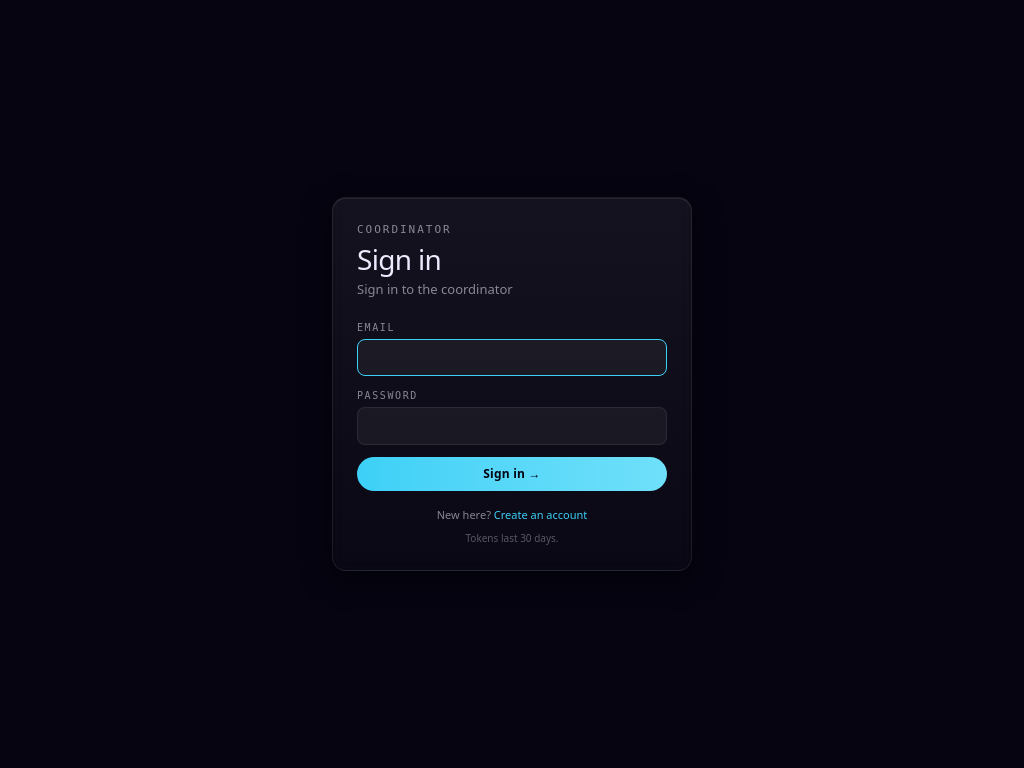
Test: a successful login lands the user on the jobs page
This screenshot has width=1024, height=768.
Check: the text "Sign in to the coordinator" is shown, box 357,280 -> 513,298
Type "admin@example.com" into the field labelled "Email" at coordinates (512, 358), box 357,339 -> 667,376
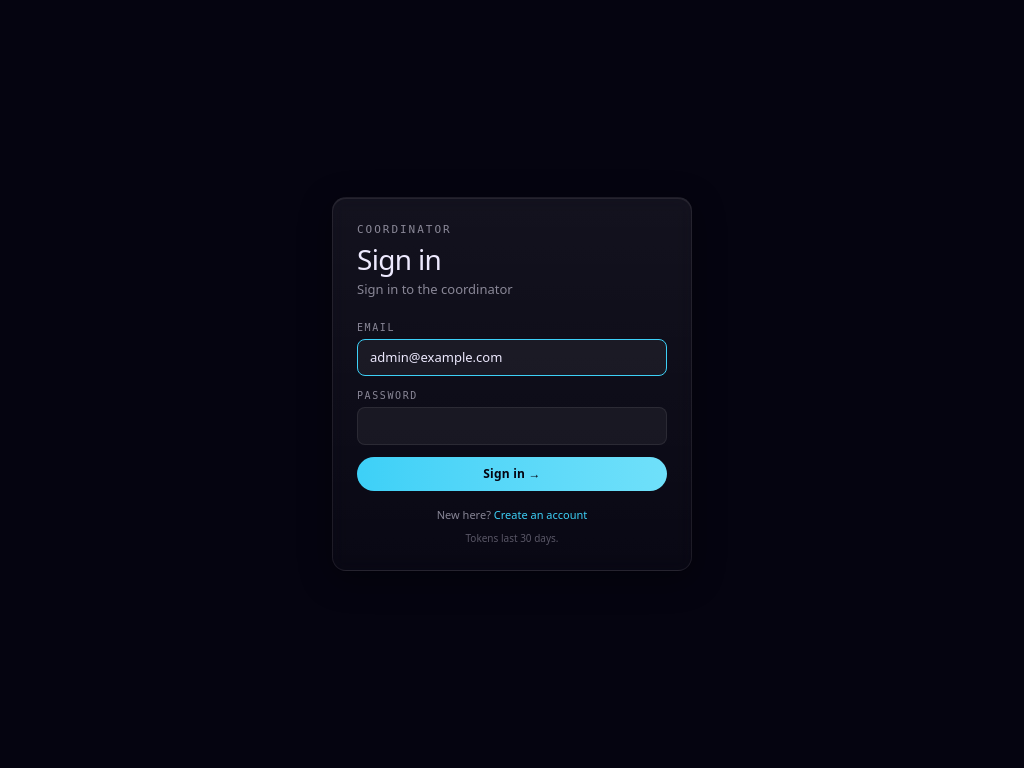
Type "changeme123" into the password field labelled "Password" at coordinates (512, 426), box 357,407 -> 667,445
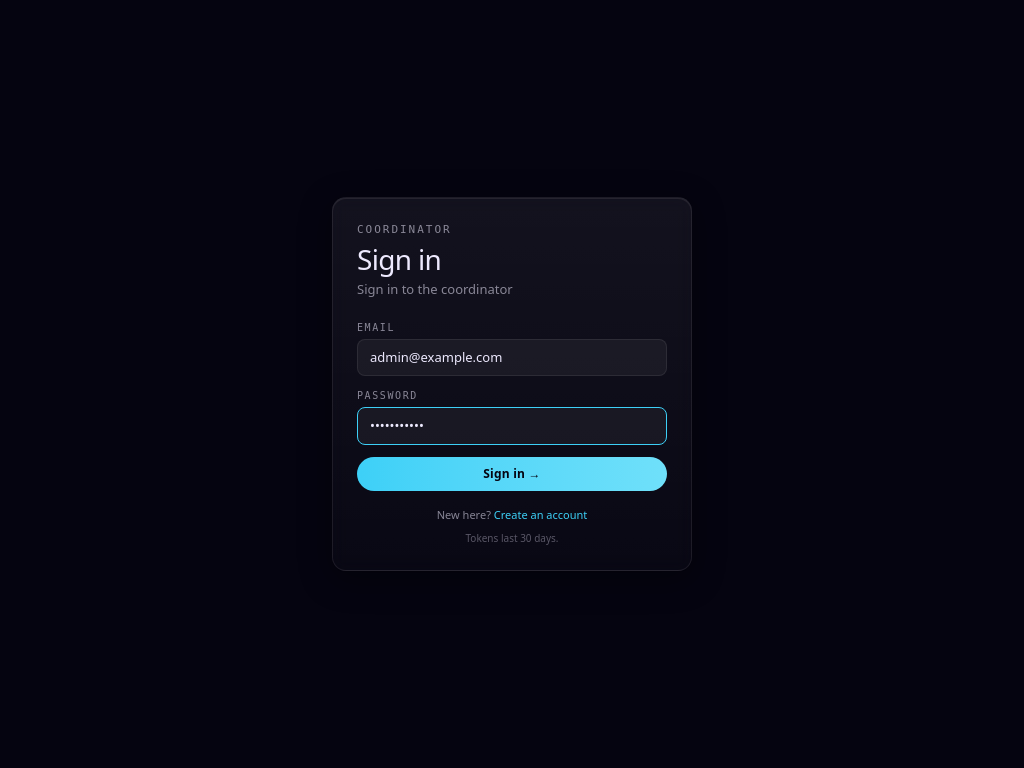
Click the button "Sign in →" at coordinates (512, 474), box 357,457 -> 667,491
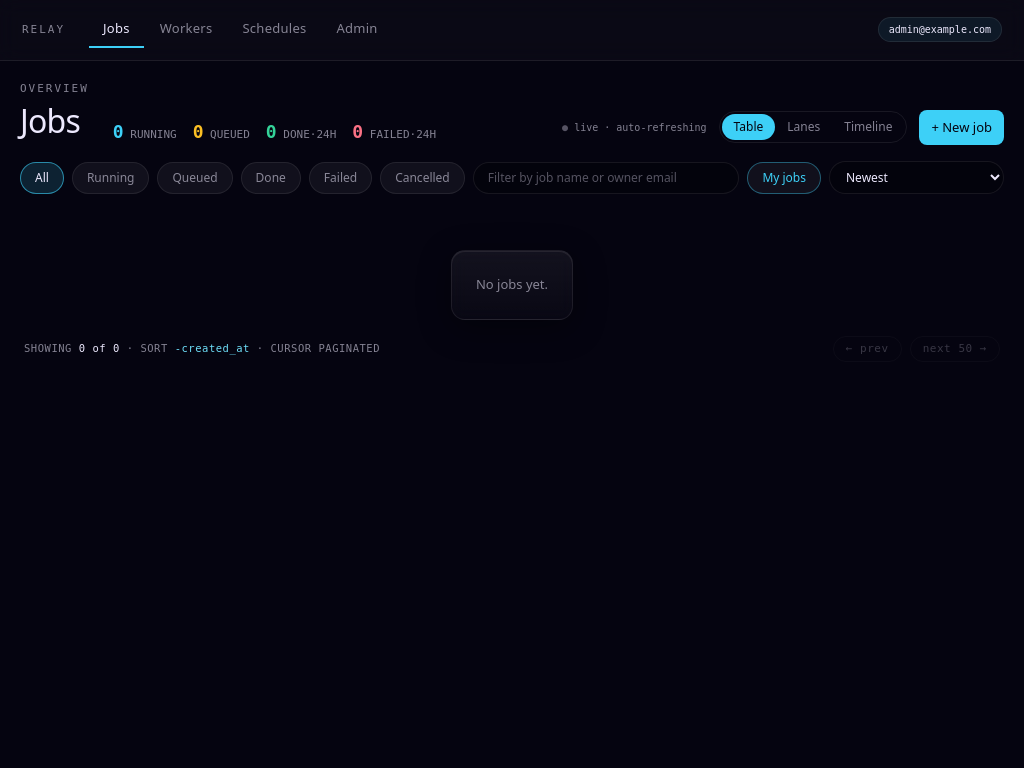
Check: the text "OVERVIEW" is shown, box 20,80 -> 89,97
